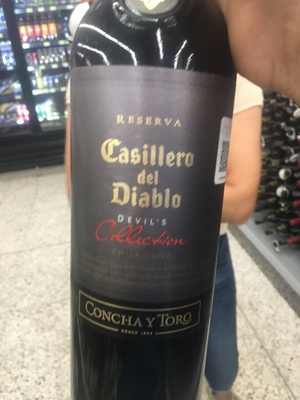casillero del diablo devils collection rojo: (65, 4, 237, 400)
